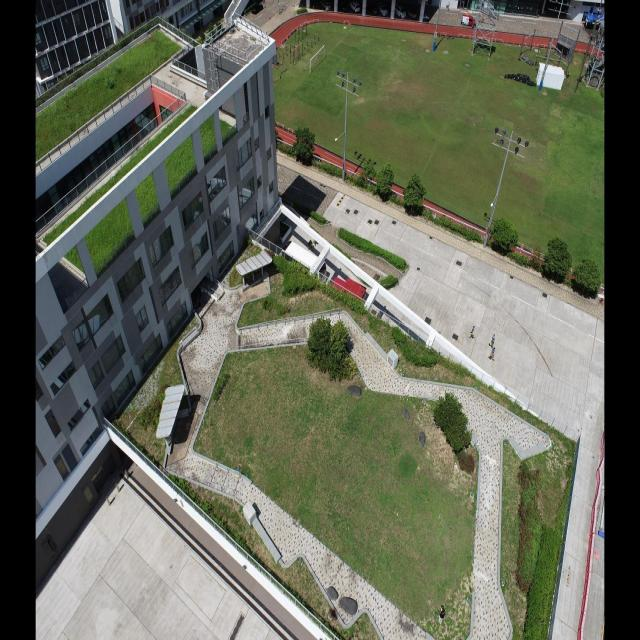p3rson: (438, 608, 446, 624), (488, 347, 495, 361), (489, 334, 495, 348), (468, 326, 474, 338), (308, 239, 312, 251), (470, 19, 474, 29), (481, 14, 485, 23), (447, 1, 450, 11)
